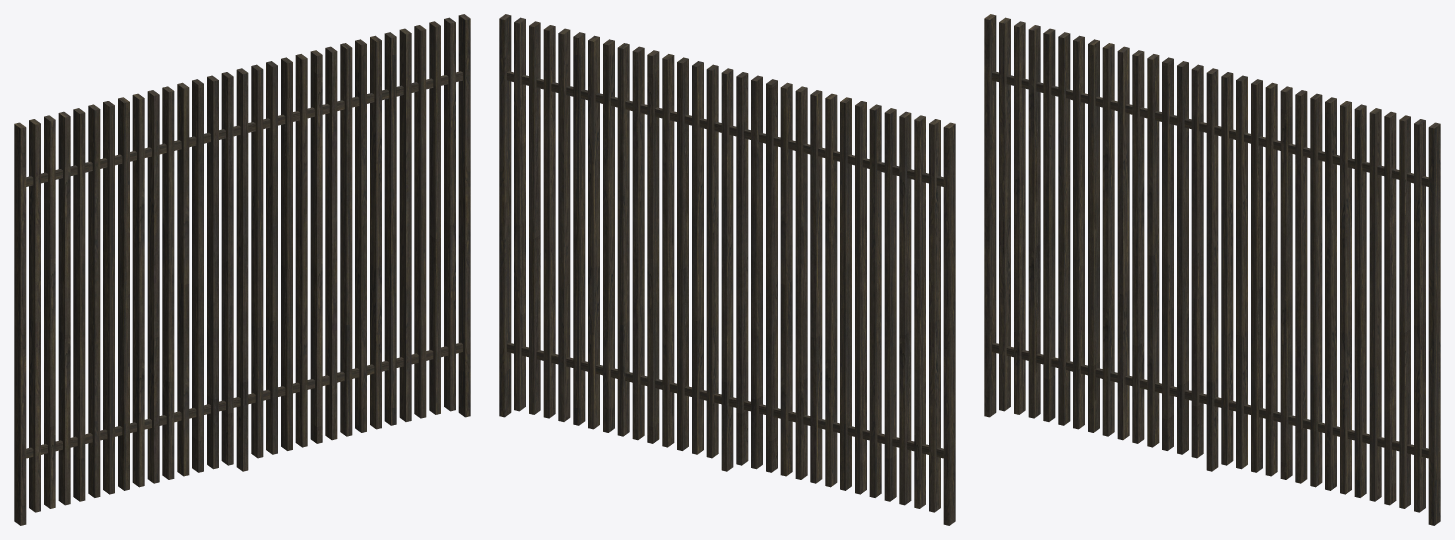
File: sg-reversible-s50_h2000_blackebony.fbx
3 views of the same model, side by side, from view 1: azimuth 30°, elevation 25°; view 2: azimuth 150°, elevation 25°; view 3: azimuth 330°, elevation 25° (orthographic).
Parts seen in each view (by area): view 1: sg-reversible-s50_h2000_blackebony_2span; view 2: sg-reversible-s50_h2000_blackebony_2span; view 3: sg-reversible-s50_h2000_blackebony_2span.
Boxes of the visible parts, x1,y1,x2,y2 form: sg-reversible-s50_h2000_blackebony_2span: [14, 14, 470, 525]; sg-reversible-s50_h2000_blackebony_2span: [499, 14, 955, 525]; sg-reversible-s50_h2000_blackebony_2span: [984, 14, 1440, 525].
Bounding box in the file's own units: 243 × 205 × 6.
Materials: 1 (1 with a texture image).
